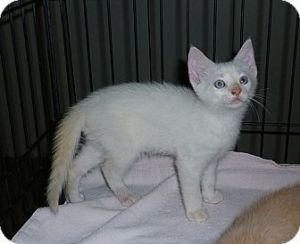siamese: (182, 34, 264, 118)
